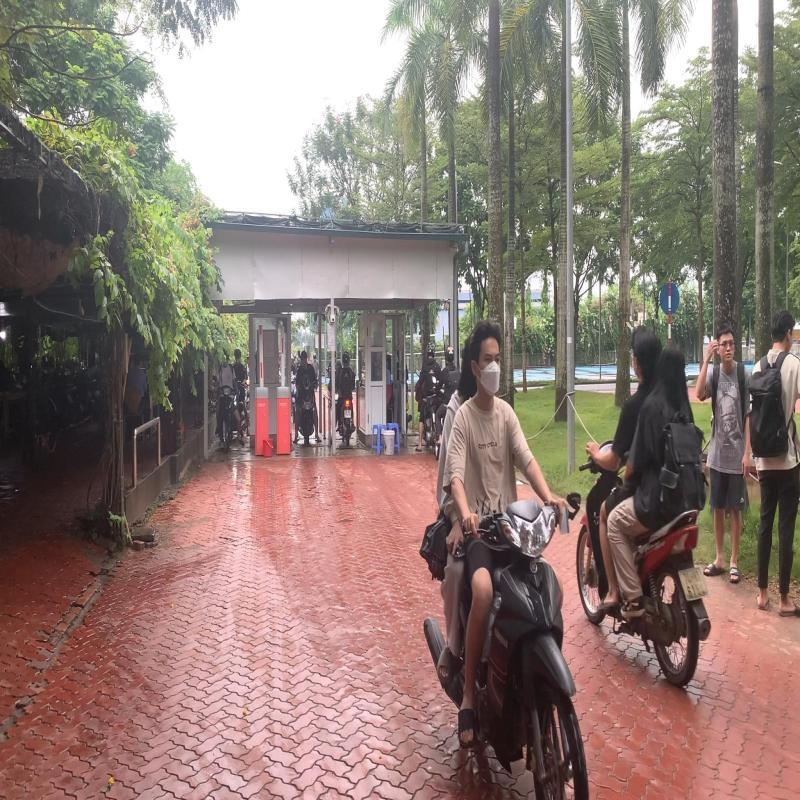nohelmet: (628, 319, 663, 382), (657, 339, 688, 396)
